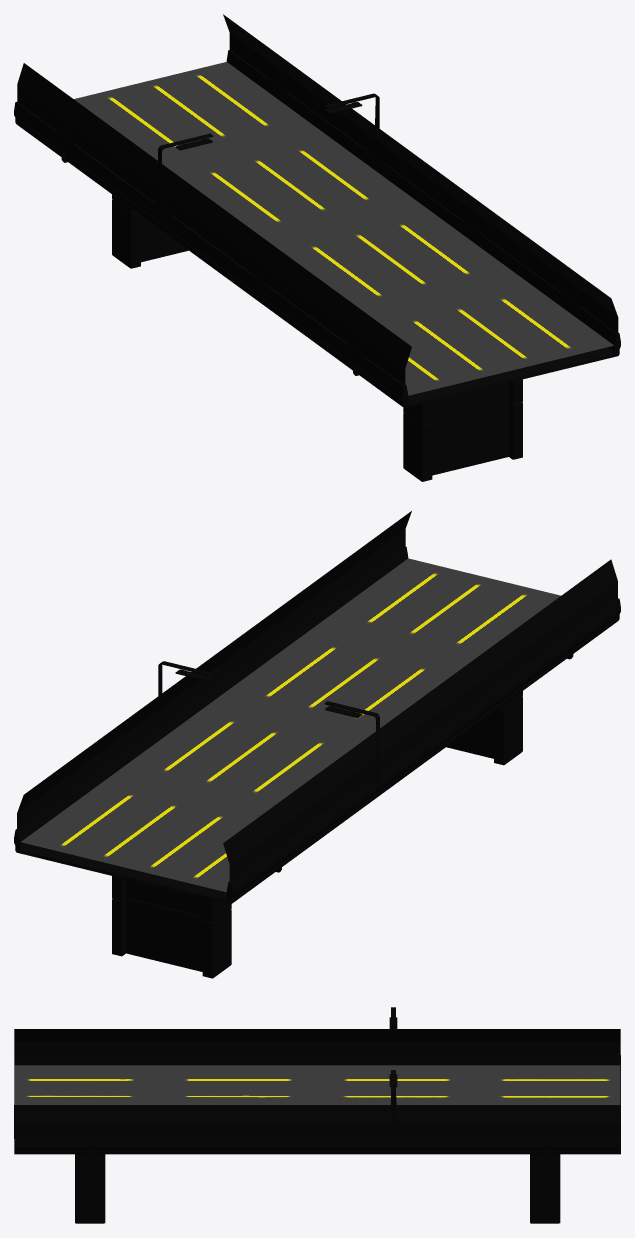
The model's file is RoadSegment.gltf.
3 views of the same model, one above another, from view 1: azimuth 30°, elevation 25°; view 2: azimuth 150°, elevation 25°; view 3: azimuth 270°, elevation 25° (orthographic). The views are drawn at different scales.
Parts seen in each view (by area): view 1: Road; view 2: Road; view 3: Road.
Part boxes in pixels (left/top/right/bottom): Road: left=14, top=14, right=620, bottom=481; Road: left=14, top=511, right=620, bottom=978; Road: left=14, top=1007, right=620, bottom=1223.
Size of the model in its own units: 39.08 by 34.15 by 120.
Materials: 3 (1 with a texture image).
